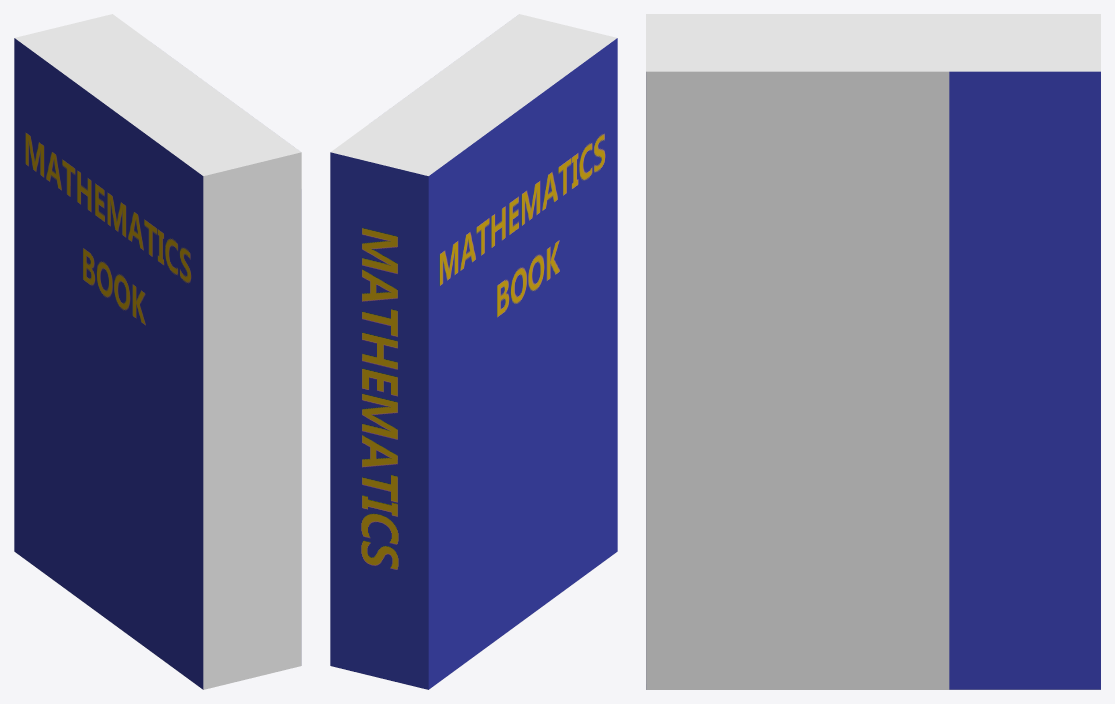
Rendered from 數學書.fbx.
3 renders of one model, left to right at view 1: azimuth 30°, elevation 25°; view 2: azimuth 150°, elevation 25°; view 3: azimuth 270°, elevation 25°, orthographic. The views are drawn at different scales.
Visible parts, largest first — view 1: 數學書; view 2: 數學書; view 3: 數學書.
Boxes of the visible parts, left/top/right/bottom form: 數學書: left=14, top=14, right=301, bottom=689; 數學書: left=330, top=14, right=617, bottom=689; 數學書: left=646, top=14, right=1100, bottom=689.
Size of the model in its own units: 3 by 15 by 10.
Materials: 1 (1 with a texture image).
